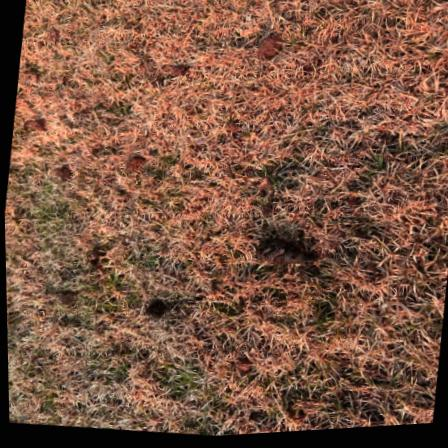dog-poop: (246, 235, 320, 275), (136, 294, 169, 324)
